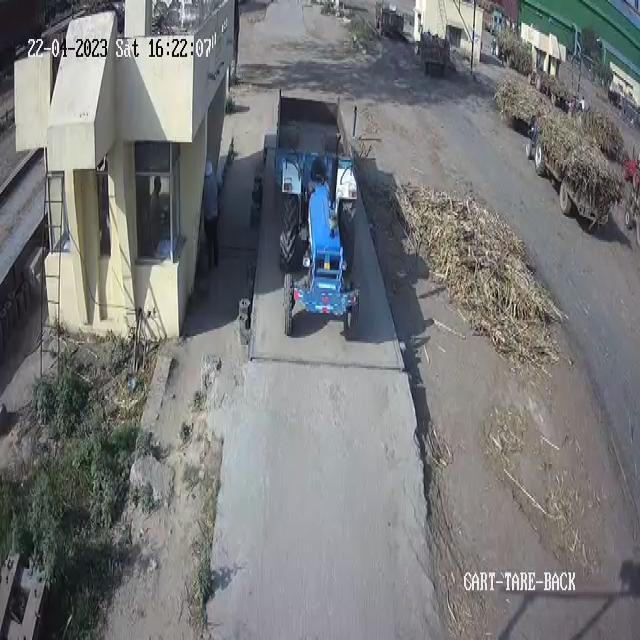Tratores - v5 YOLO V8L 2024-11-13: (274, 140, 360, 340)
